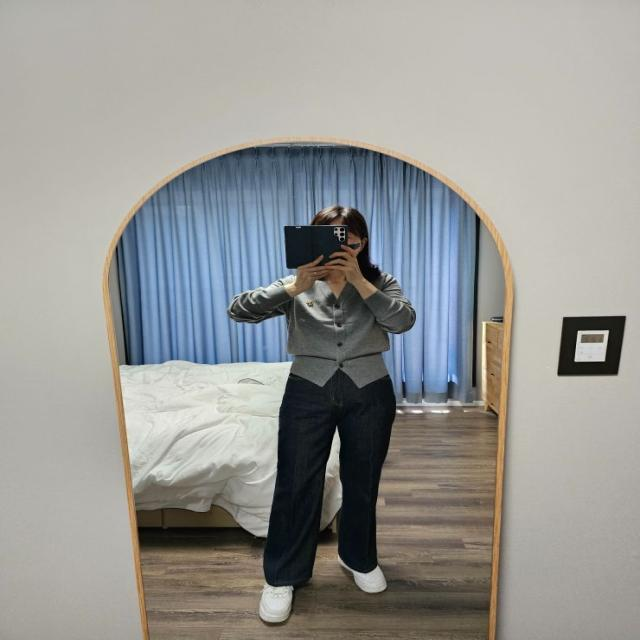cardigan: (229, 274, 421, 389)
denimpants: (262, 368, 395, 585)
